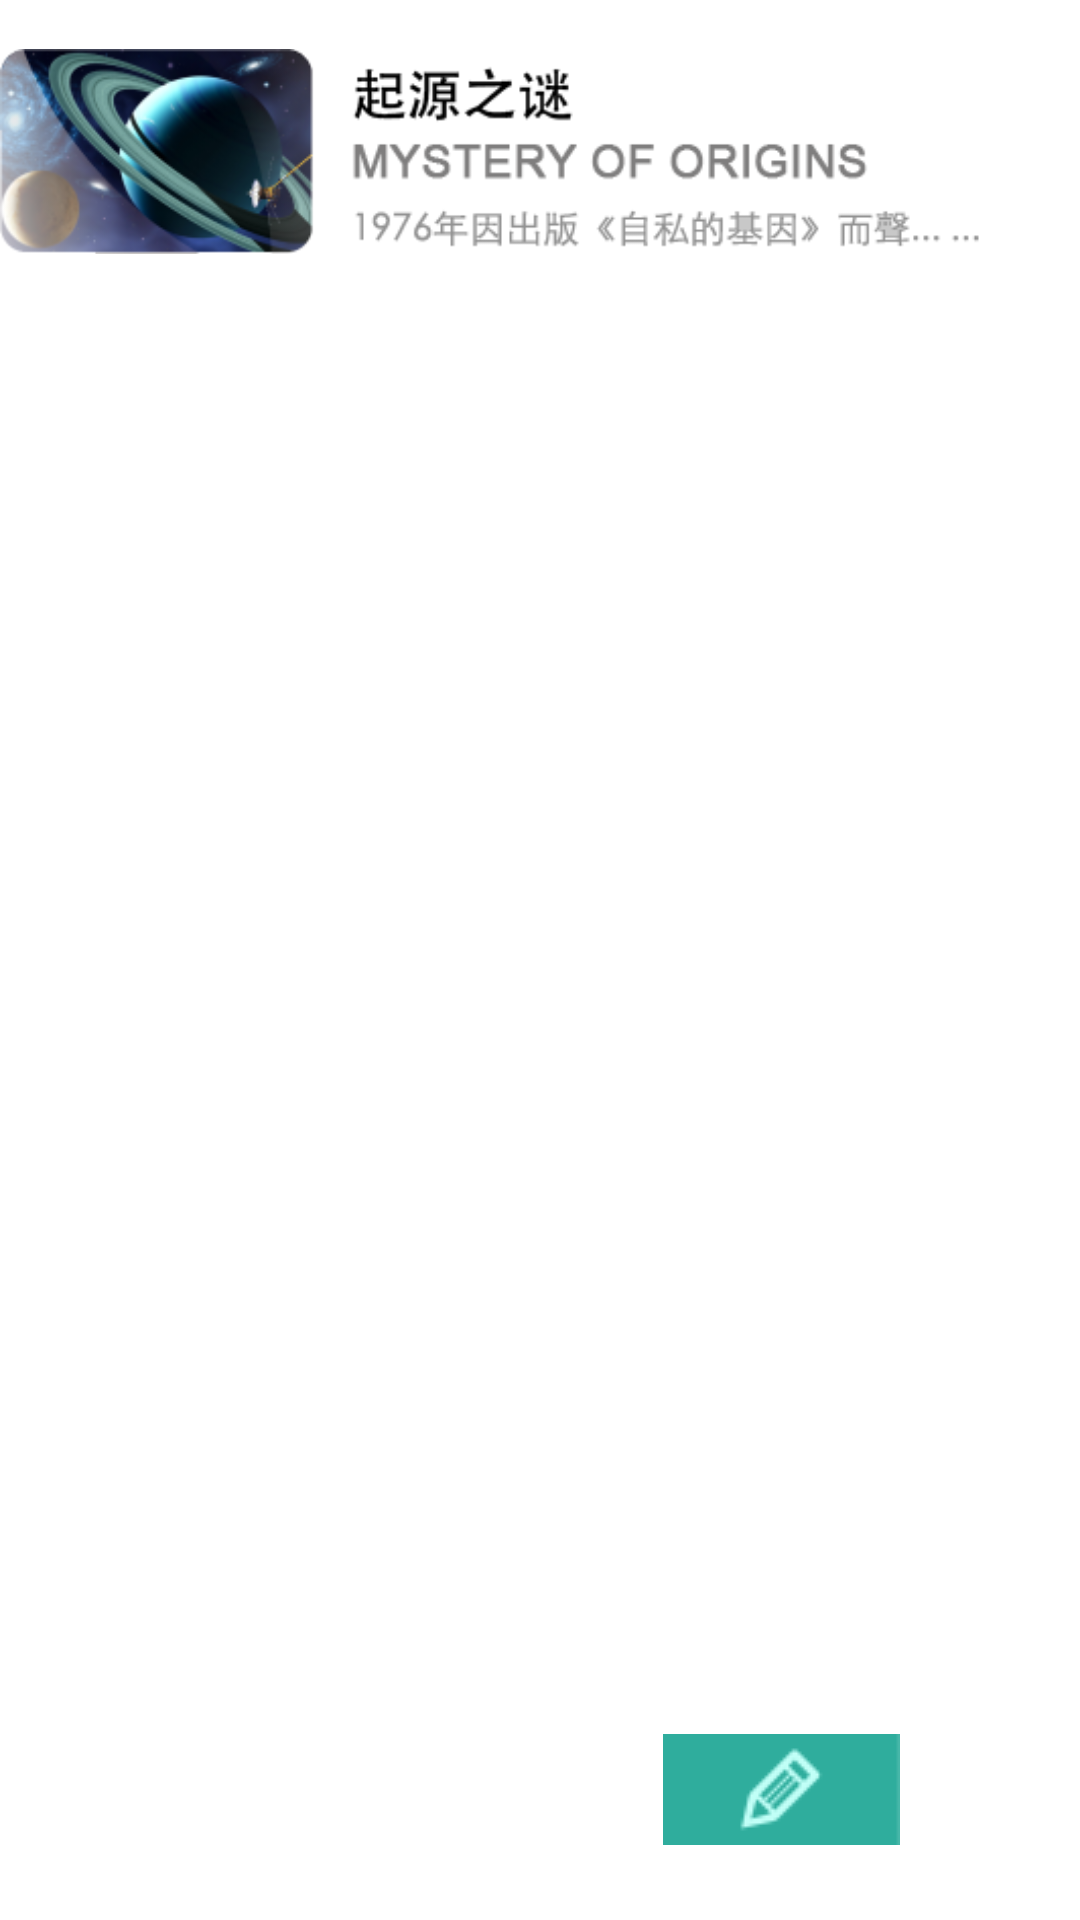

Point at icon controls on the screen. Image size 1080px x 1920px, points as [x,y].
pen: [781,1789]
